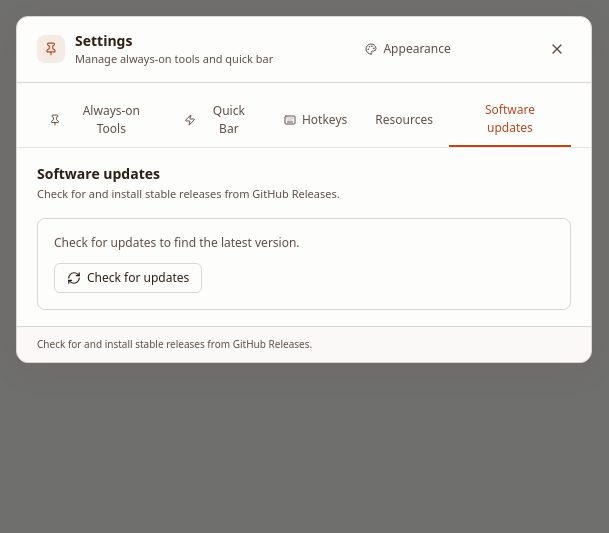
software update status › renders Markdown release notes in the update page
Click the button "Check for updates" at [128, 278], box left=54, top=263, right=202, bottom=293
(page scrolled)
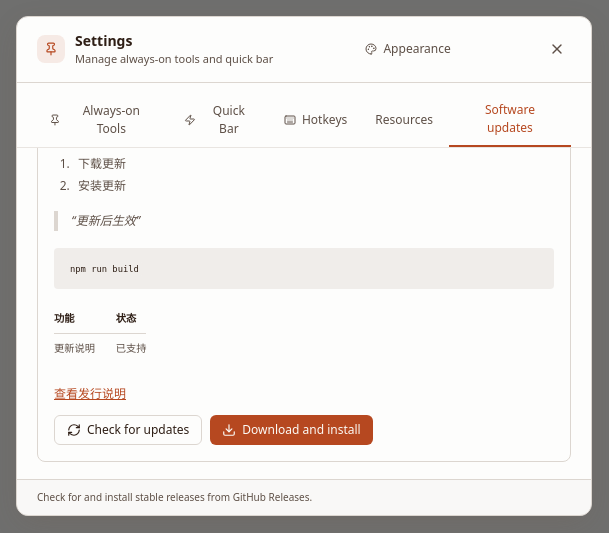
Result: the text "下载更新" is shown at left=78, top=155, right=126, bottom=172
Result: the text "更新后生效" is shown at left=54, top=211, right=554, bottom=231
Result: the text "npm run build" is shown at left=54, top=248, right=554, bottom=289
